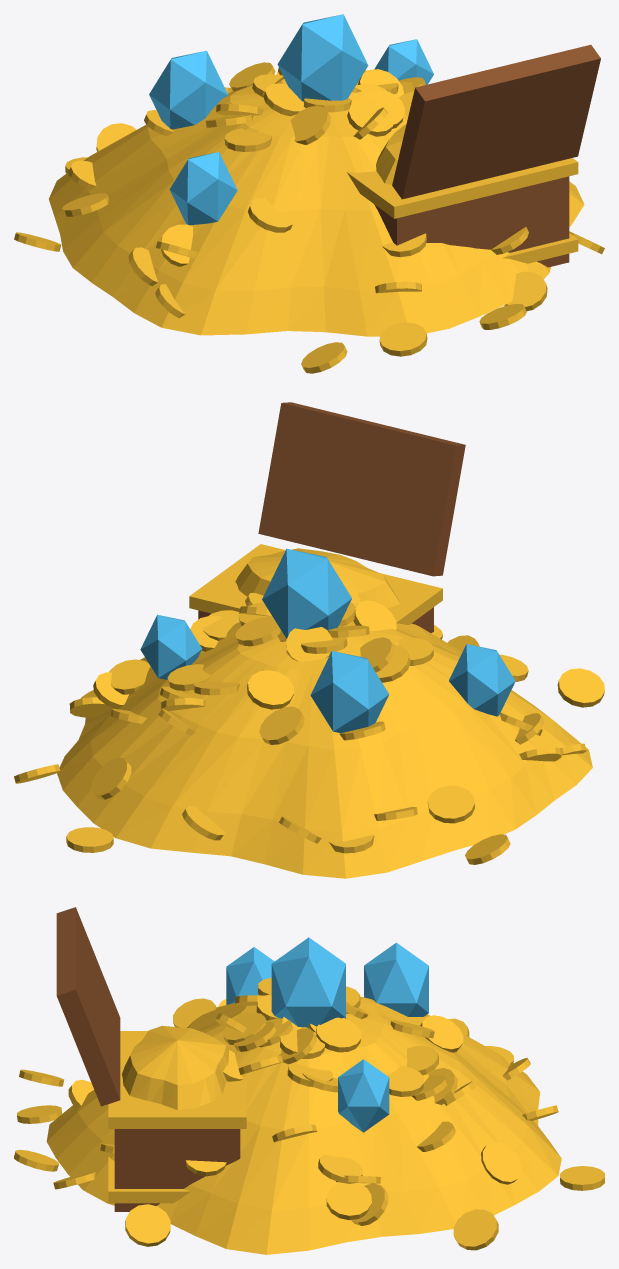
File: SandHoard.obj
3 views of the same model, one above another, from view 1: azimuth 30°, elevation 25°; view 2: azimuth 150°, elevation 25°; view 3: azimuth 270°, elevation 25° (orthographic). The views are drawn at different scales.
Parts seen in each view (by area): view 1: Gold, Wood, Gem; view 2: Gold, Wood, Gem; view 3: Gold, Wood, Gem.
Boxes of the visible parts, x1,y1,x2,y2 form: Gold: (14,62,604,373); Wood: (374,44,600,267); Gem: (149,14,433,225); Gold: (14,544,604,878); Wood: (198,402,465,632); Gem: (140,548,515,733); Gold: (14,977,604,1254); Wood: (56,907,240,1211); Gem: (226,937,428,1132).
Bounding box in the file's own units: 9.85 × 4.77 × 10.8.
